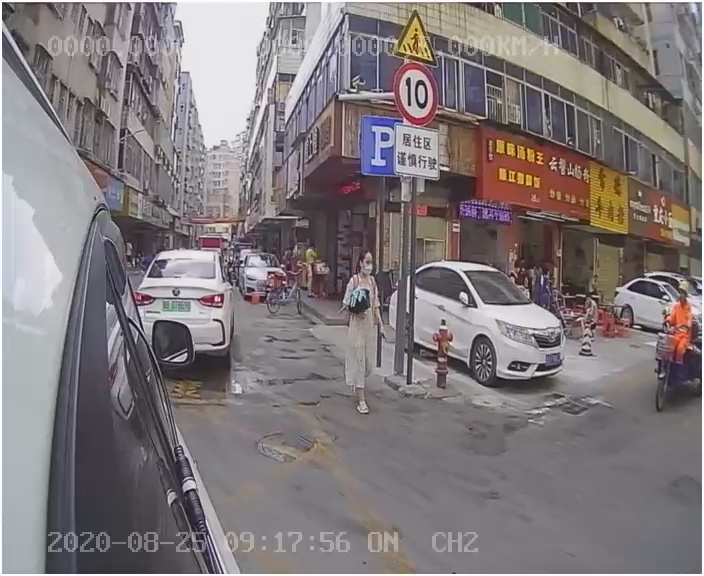person: (330, 253, 391, 419)
